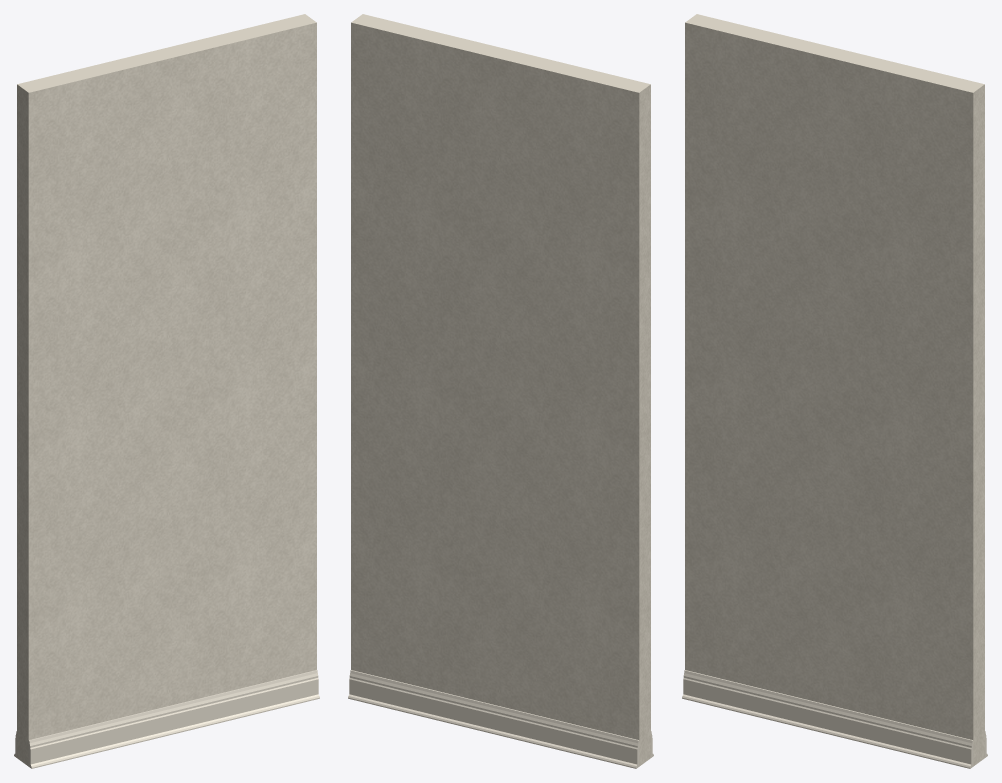
File: interior_wall_end_tall.glb
The picture shows the model from 3 angles, left to right: view 1: azimuth 30°, elevation 25°; view 2: azimuth 150°, elevation 25°; view 3: azimuth 330°, elevation 25°; orthographic projection.
Visible parts, largest first — view 1: interior_wall_end_tall_plaster, molduras; view 2: interior_wall_end_tall_plaster, molduras; view 3: interior_wall_end_tall_plaster, molduras.
Boxes of the visible parts, <box> form: interior_wall_end_tall_plaster: <box>17,14,316,766</box>; molduras: <box>14,670,319,768</box>; interior_wall_end_tall_plaster: <box>351,14,650,766</box>; molduras: <box>348,670,653,768</box>; interior_wall_end_tall_plaster: <box>685,14,984,766</box>; molduras: <box>682,670,987,768</box>.
Size of the model in its own units: 1.7 by 3.8 by 0.18.
Materials: 2 (1 with a texture image).
